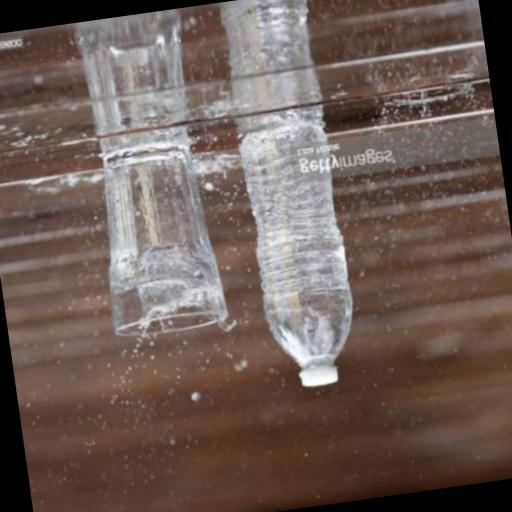Coca: (229, 98, 370, 400)
